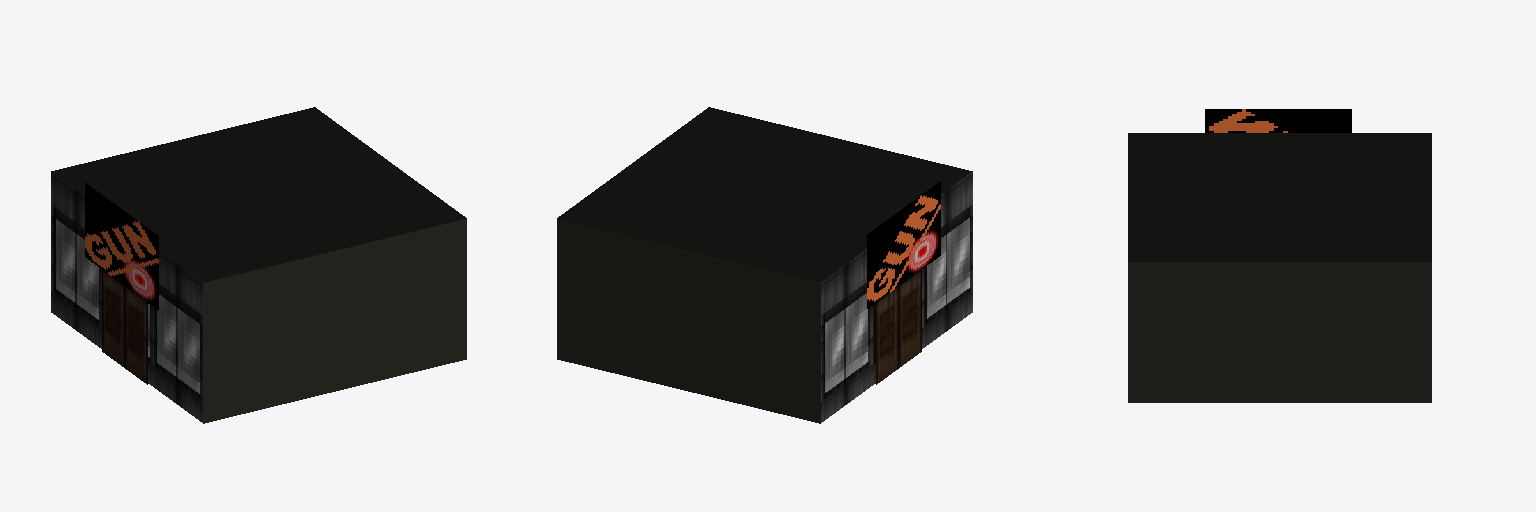
The picture shows the model from 3 angles: view 1: azimuth 30°, elevation 25°; view 2: azimuth 150°, elevation 25°; view 3: azimuth 270°, elevation 25°; orthographic projection.
Visible parts, largest first — view 1: shop1; view 2: shop1; view 3: shop1.
Boxes of the visible parts, x1,y1,x2,y2 form: shop1: [51, 107, 466, 423]; shop1: [557, 107, 972, 423]; shop1: [1128, 109, 1431, 402].
Size of the model in its own units: 16.39 by 9.34 by 16.
Materials: 5 (3 with a texture image).